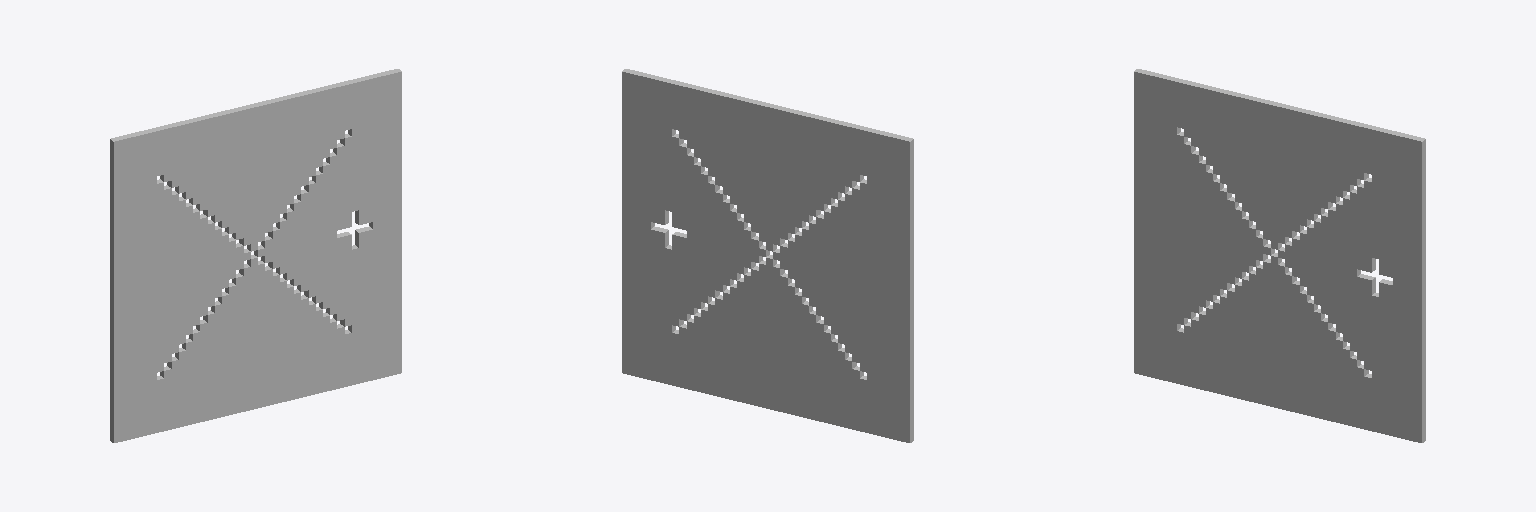
The model's file is X positivo.obj.
3 renders of one model, left to right at view 1: azimuth 30°, elevation 25°; view 2: azimuth 150°, elevation 25°; view 3: azimuth 330°, elevation 25°, orthographic.
Parts seen in each view (by area): view 1: object 1; view 2: object 1; view 3: object 1.
Part boxes in pixels (bbox=[...]): object 1: bbox=[110, 69, 401, 442]; object 1: bbox=[622, 69, 913, 442]; object 1: bbox=[1134, 69, 1425, 442].
Size of the model in its own units: 4 by 4 by 0.1.